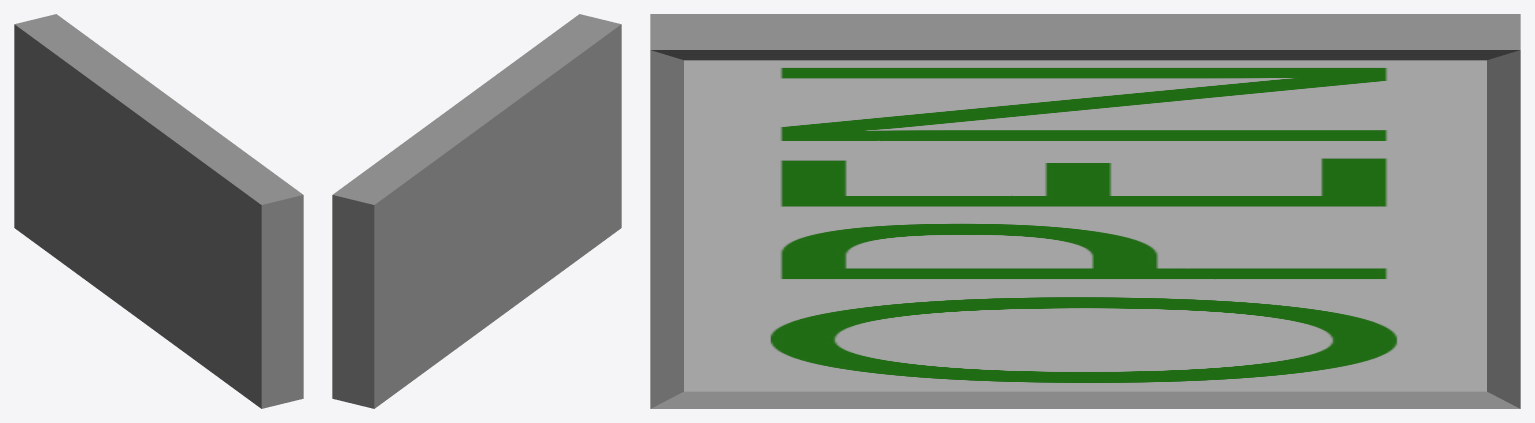
The model's file is Open_Sign.fbx.
3 views of the same model, side by side, from view 1: azimuth 30°, elevation 25°; view 2: azimuth 150°, elevation 25°; view 3: azimuth 270°, elevation 25° (orthographic). The views are drawn at different scales.
Parts seen in each view (by area): view 1: Cube; view 2: Cube; view 3: Cube.
Part boxes in pixels (x1,y1,x2,y2): Cube: (14, 14, 303, 408); Cube: (332, 14, 621, 408); Cube: (650, 14, 1520, 408).
Bounding box in the file's own units: 26.96 × 125 × 275.
2 materials, 1 textured.
